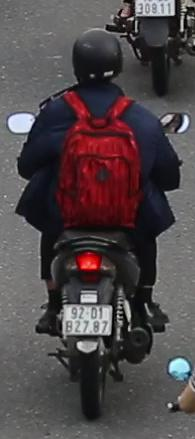LP: (61, 302, 114, 340)
helmet: (70, 25, 127, 95)
